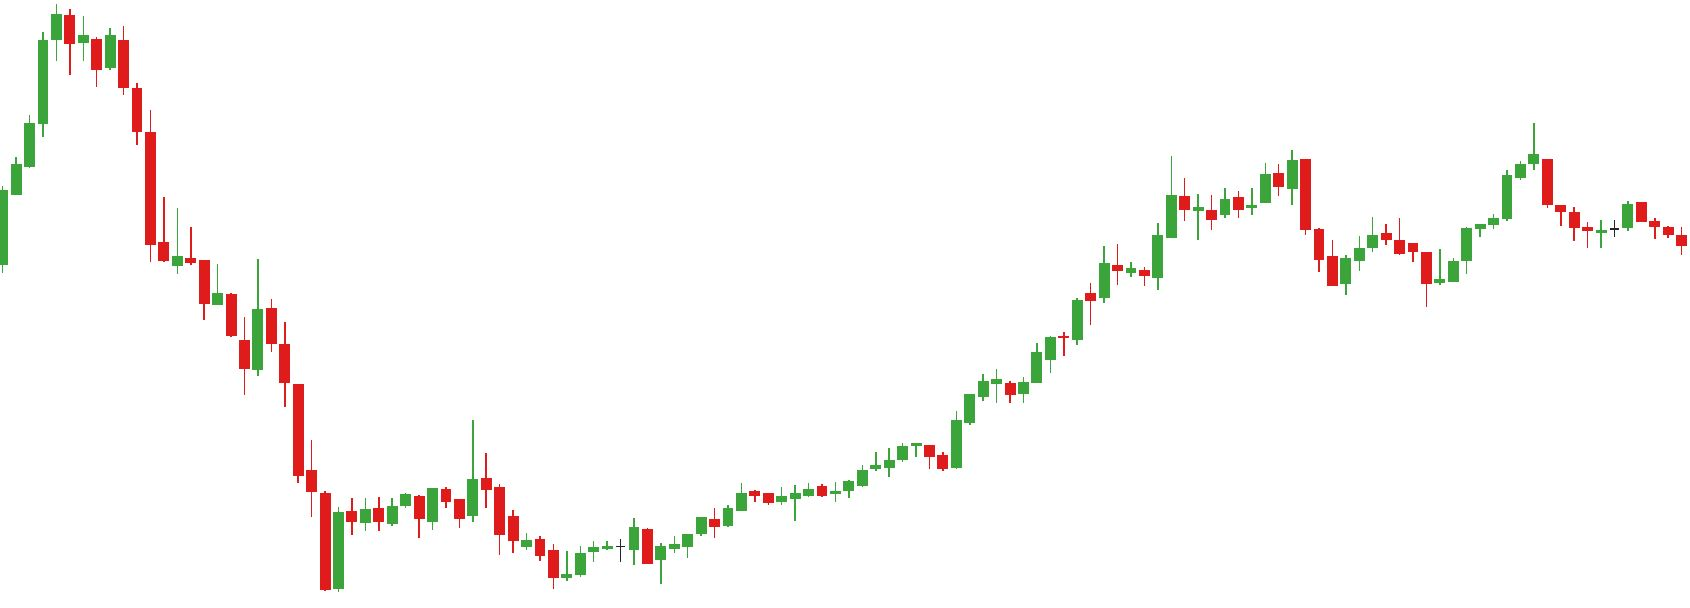buy: (1322, 238, 1436, 315)
